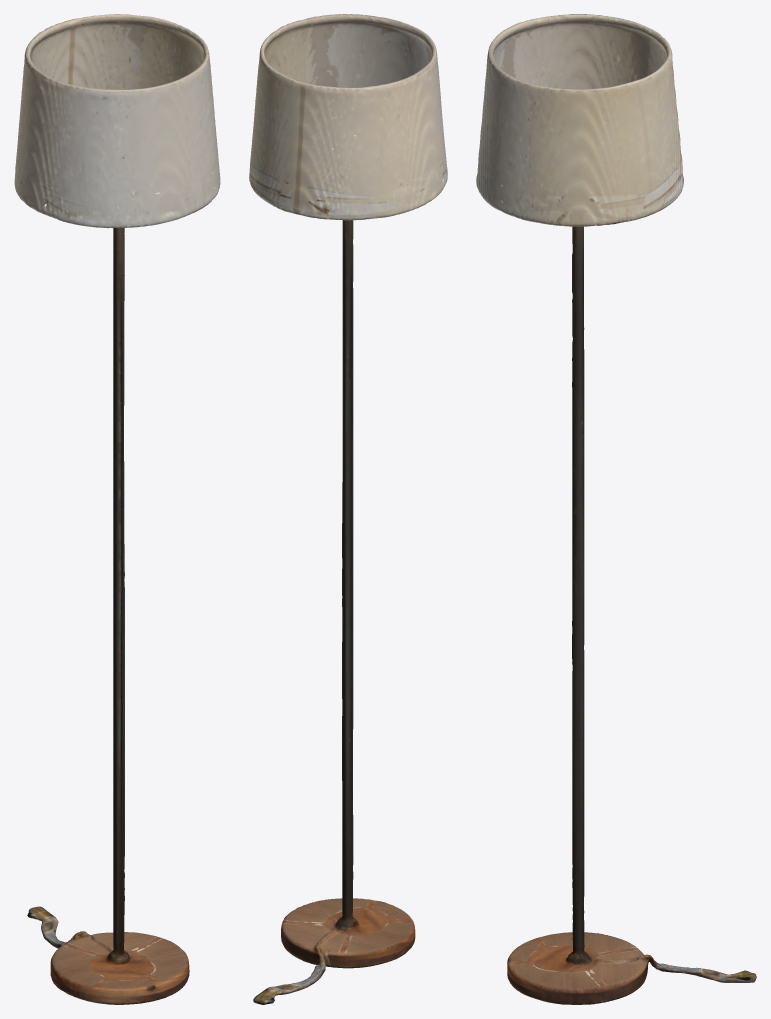
File: stehlampe.glb
The picture shows the model from 3 angles, left to right: view 1: azimuth 30°, elevation 25°; view 2: azimuth 150°, elevation 25°; view 3: azimuth 270°, elevation 25°; orthographic projection. The views are drawn at different scales.
Parts seen in each view (by area): view 1: Mesh_0; view 2: Mesh_0; view 3: Mesh_0.
Boxes of the visible parts, box(x1,y1,x2,y2) form: Mesh_0: box(14, 14, 220, 1004); Mesh_0: box(249, 14, 447, 1004); Mesh_0: box(476, 14, 756, 1004).
Bounding box in the file's own units: 0.404 × 2 × 0.549.
Materials: 1 (1 with a texture image).
